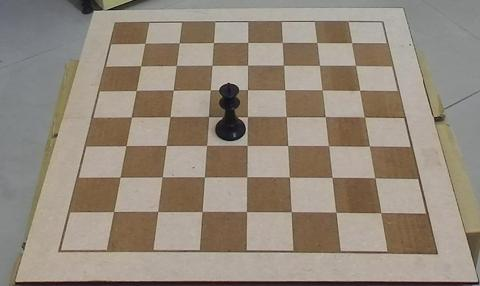xcorner: (312, 37, 322, 47), (277, 37, 287, 47), (243, 37, 253, 47), (174, 38, 184, 48), (140, 38, 150, 48), (351, 60, 361, 70), (315, 60, 325, 70), (279, 60, 289, 70), (243, 60, 253, 70), (207, 60, 217, 70), (355, 84, 365, 94), (243, 85, 253, 95), (206, 85, 216, 95), (169, 85, 179, 95), (132, 85, 142, 95), (360, 111, 370, 121), (321, 111, 331, 121), (127, 112, 137, 122), (243, 141, 253, 151), (162, 141, 172, 151), (122, 141, 132, 151), (378, 208, 388, 218), (333, 208, 343, 218), (288, 208, 298, 218), (243, 208, 253, 218), (110, 207, 120, 217), (347, 37, 356, 47), (172, 60, 181, 70), (136, 61, 146, 70), (318, 85, 328, 94), (280, 85, 290, 94), (282, 112, 292, 121), (243, 112, 253, 121), (204, 112, 214, 121), (284, 141, 294, 150), (203, 141, 212, 151), (372, 173, 381, 183), (329, 173, 338, 183), (286, 173, 296, 182), (243, 173, 253, 182), (201, 173, 211, 182), (116, 173, 126, 182), (199, 208, 209, 217), (154, 208, 164, 217), (209, 38, 218, 47), (166, 112, 175, 121), (366, 141, 375, 150), (325, 141, 334, 150), (159, 173, 168, 182)
